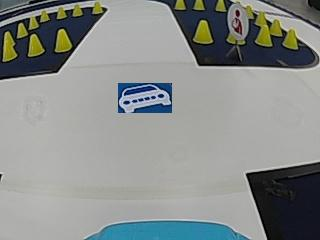cone: (194, 20, 214, 44), (2, 31, 17, 60), (54, 29, 72, 52), (256, 22, 272, 46), (28, 34, 44, 56), (282, 28, 298, 49), (270, 18, 281, 35), (17, 22, 28, 37), (72, 3, 83, 17), (28, 15, 39, 29), (56, 6, 67, 19), (39, 9, 50, 22), (91, 1, 102, 14), (215, 0, 226, 11), (174, 0, 186, 10), (193, 0, 205, 10)
patient: (229, 3, 247, 38)
